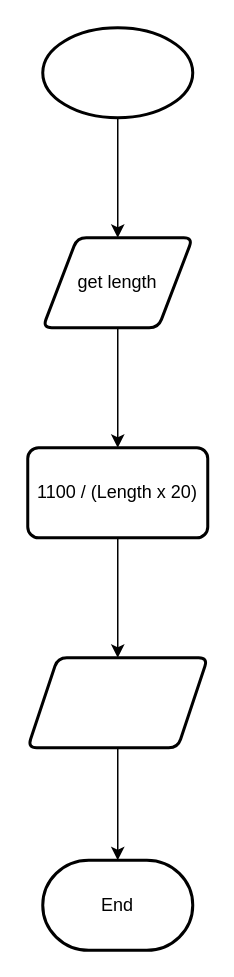
Image size: 234x977. Some labels were removed from this diagram. The box of each missing label's shape, as (x1, y1, x2, y2) in pixels:
show answer: (26, 656, 208, 748)
Start: (40, 26, 194, 118)
